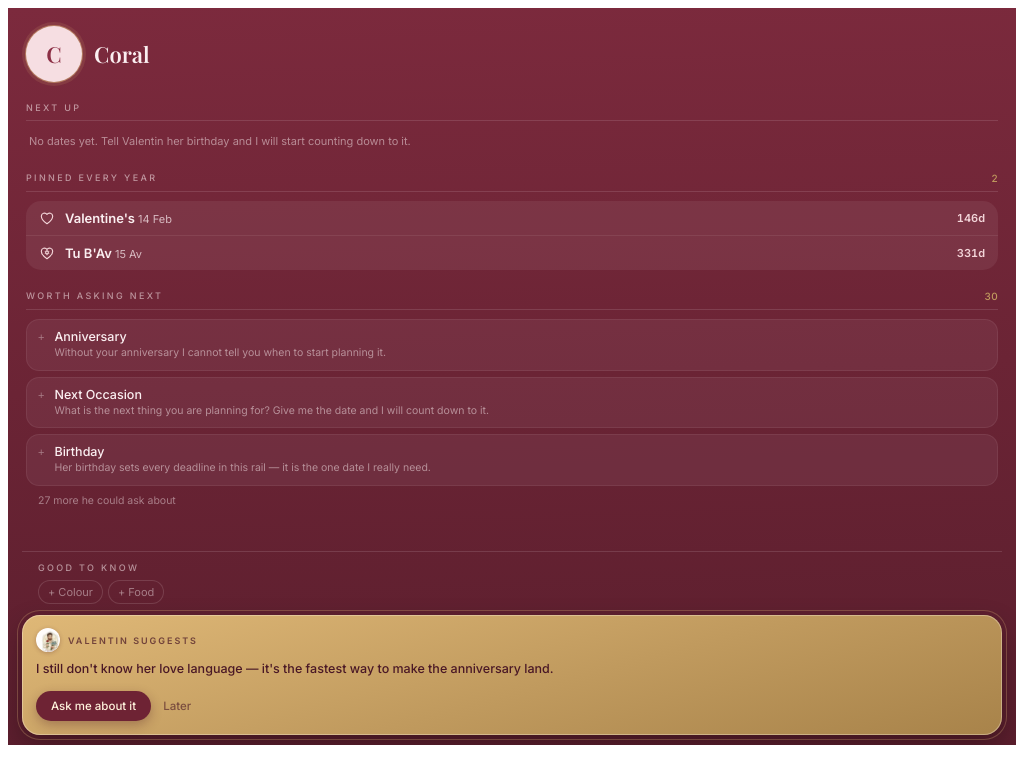
Scenario: BriefRail — the nudge › moves to the next gap when the user says Later
Click the button with test id "brief-nudge-later" at (177, 706), box [159,691,195,721]
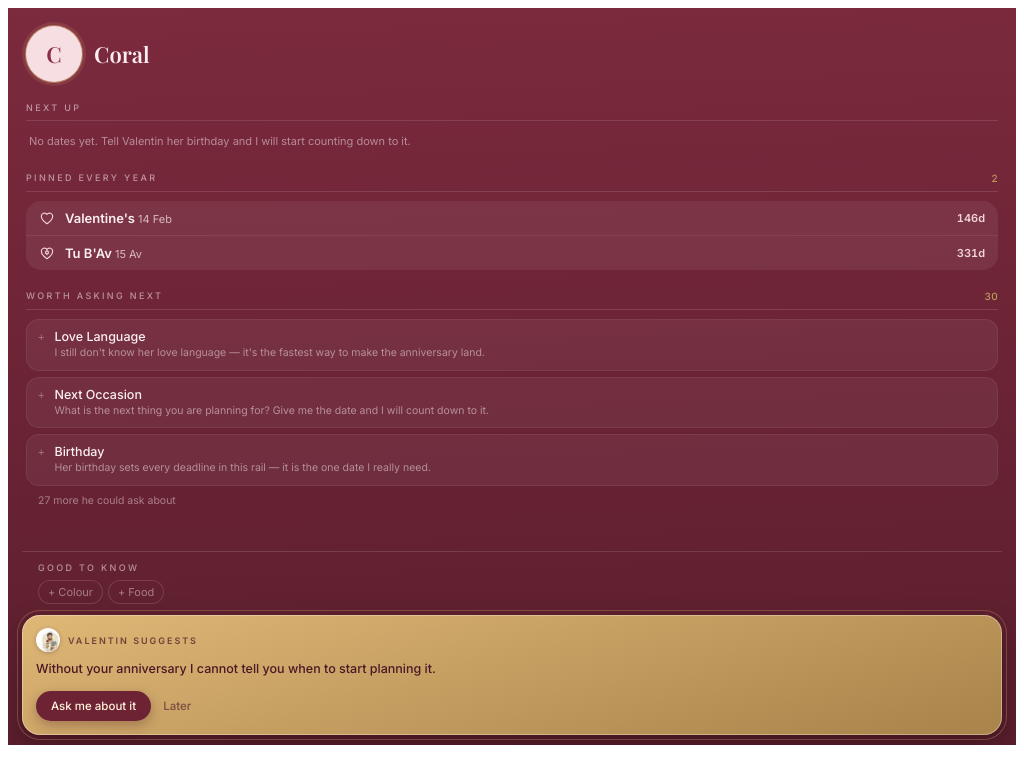
Expected: the element with test id "brief-nudge" shows "anniversary", [36,661,436,676]
Result: the element with test id "brief-nudge" no longer shows "love language"
